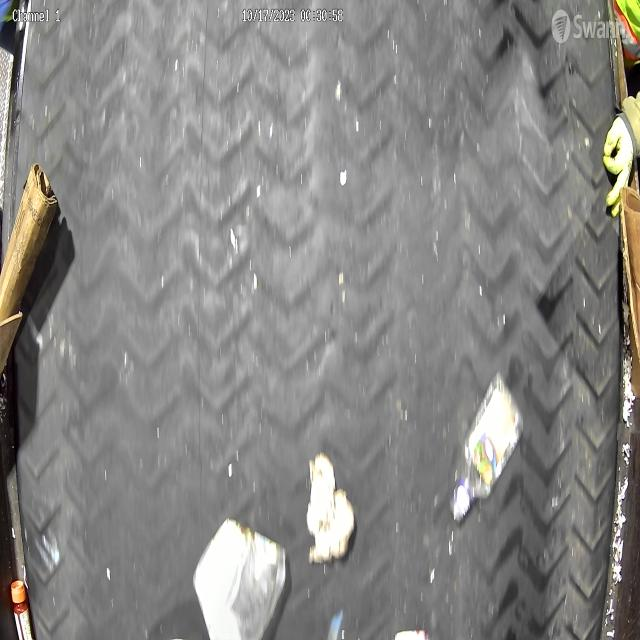plastic_bottle: (451, 373, 525, 524)
